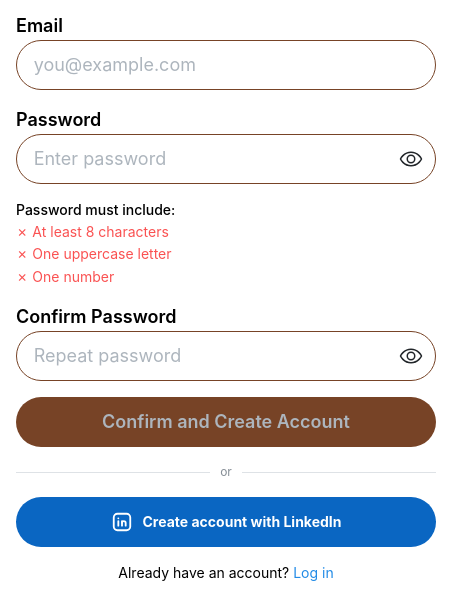
it: Register › shows password requirement feedback when the password does not meet requirements
expect the text "✗ At least 8 characters" is shown: met, box [16,223,169,240]
expect the text "✗ One uppercase letter" is shown: met, box [16,245,172,262]
Type "password" into the password field labelled "Password" at (226, 159), box [17,135,435,183]
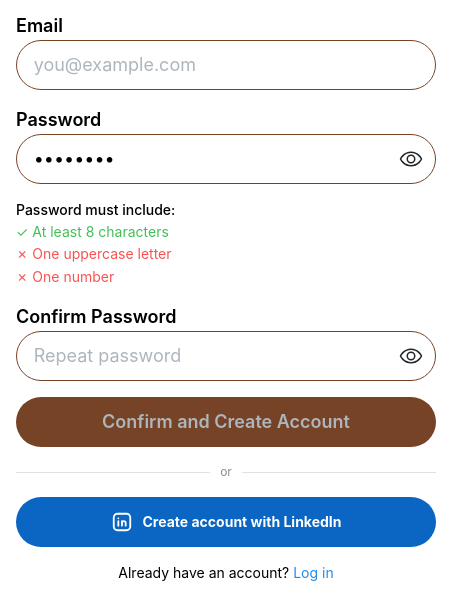
expect the text "✗ One uppercase letter" is shown: met, box [16,245,172,262]
expect the text "✓ At least 8 characters" is shown: met, box [16,223,169,240]
